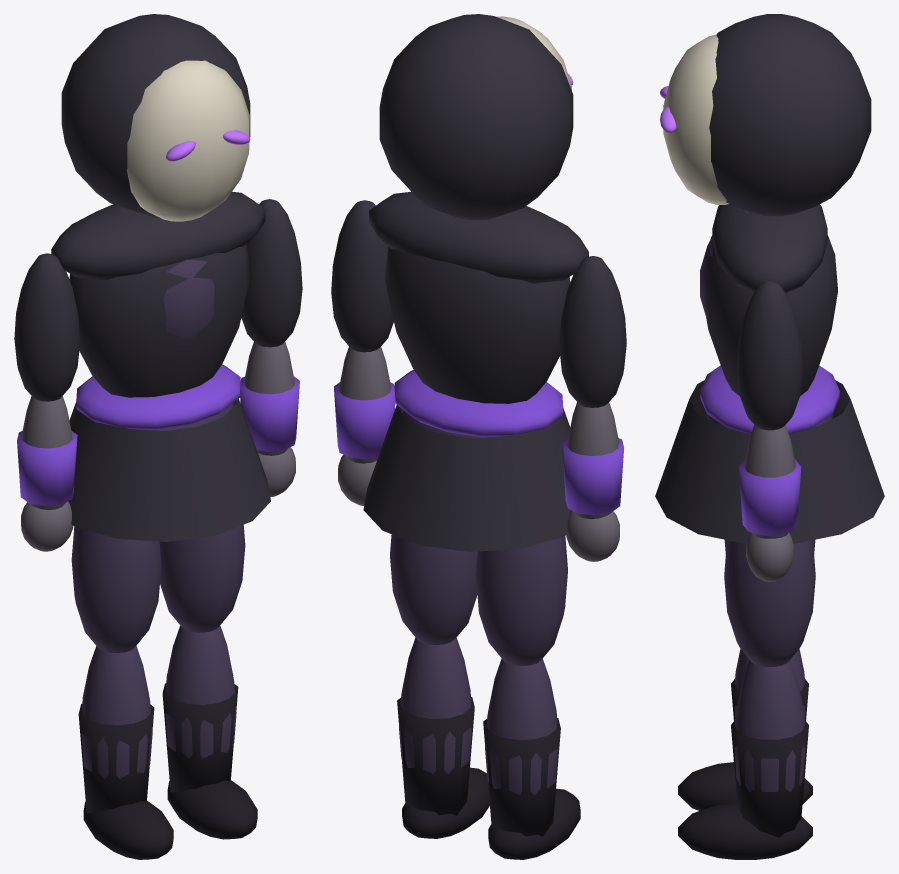
The model's file is ashen_grunt.glb.
The picture shows the model from 3 angles, left to right: view 1: azimuth 30°, elevation 25°; view 2: azimuth 150°, elevation 25°; view 3: azimuth 270°, elevation 25°; orthographic projection. The views are drawn at different scales.
Visible parts, largest first — view 1: Head, Torso, Hips, LowerLegL, LowerLegR, UpperLegR, UpperArmR, LowerArmR, UpperLegL, UpperArmL, LowerArmL; view 2: Torso, Head, Hips, LowerLegR, LowerLegL, UpperLegR, UpperArmR, LowerArmR, UpperLegL, UpperArmL, LowerArmL; view 3: Head, Hips, LowerLegL, Torso, UpperLegL, UpperArmL, LowerArmL, LowerLegR.
Boxes of the visible parts, x1=… form: Head: x1=61, y1=14, x2=250, y2=221; Torso: x1=51, y1=191, x2=265, y2=397; Hips: x1=68, y1=364, x2=270, y2=541; LowerLegL: x1=162, y1=625, x2=257, y2=839; LowerLegR: x1=78, y1=646, x2=173, y2=859; UpperLegR: x1=71, y1=526, x2=161, y2=653; UpperArmR: x1=14, y1=253, x2=80, y2=401; LowerArmR: x1=17, y1=396, x2=77, y2=551; UpperLegL: x1=159, y1=525, x2=245, y2=632; UpperArmL: x1=241, y1=199, x2=302, y2=347; LowerArmL: x1=240, y1=341, x2=299, y2=497; Torso: x1=369, y1=191, x2=588, y2=403; Head: x1=379, y1=14, x2=573, y2=220; Hips: x1=363, y1=370, x2=571, y2=551; LowerLegR: x1=483, y1=658, x2=580, y2=859; LowerLegL: x1=397, y1=637, x2=489, y2=838; UpperLegR: x1=476, y1=536, x2=567, y2=665; UpperArmR: x1=559, y1=256, x2=626, y2=407; LowerArmR: x1=562, y1=402, x2=623, y2=561; UpperLegL: x1=390, y1=534, x2=477, y2=644; UpperArmL: x1=331, y1=200, x2=393, y2=352; LowerArmL: x1=334, y1=346, x2=395, y2=505; Head: x1=660, y1=14, x2=871, y2=216; Hips: x1=655, y1=365, x2=884, y2=543; LowerLegL: x1=678, y1=660, x2=812, y2=859; Torso: x1=700, y1=204, x2=837, y2=395; UpperLegL: x1=724, y1=540, x2=815, y2=666; UpperArmL: x1=736, y1=281, x2=803, y2=430; LowerArmL: x1=738, y1=425, x2=801, y2=581; LowerLegR: x1=678, y1=649, x2=812, y2=810.
Bounding box in the file's own units: 0.664 × 1.84 × 0.47.
